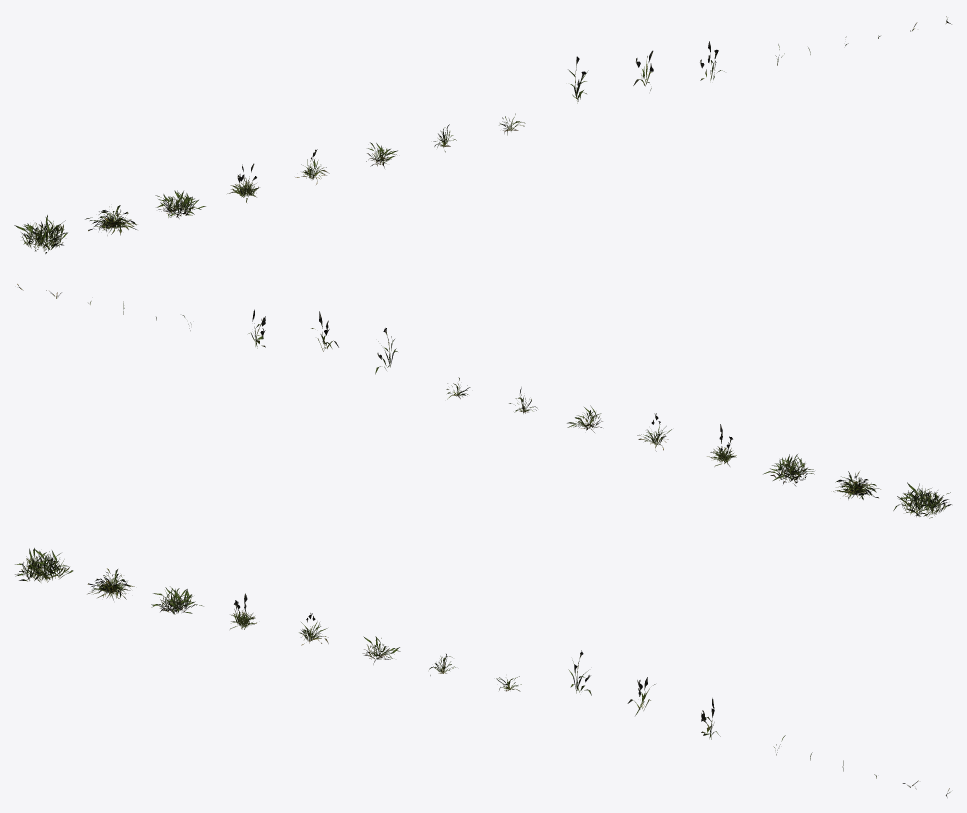
The model's file is grass_medium_01.glb.
The picture shows the model from 3 angles, top to bottom: view 1: azimuth 30°, elevation 25°; view 2: azimuth 150°, elevation 25°; view 3: azimuth 330°, elevation 25°; orthographic projection.
Parts seen in each view (by area): view 1: grass_medium_01_large_a_LOD0, grass_medium_01_large_c_LOD0, grass_medium_01_large_b_LOD0; view 2: grass_medium_01_large_a_LOD0, grass_medium_01_large_c_LOD0, grass_medium_01_large_b_LOD0; view 3: grass_medium_01_large_a_LOD0, grass_medium_01_large_c_LOD0, grass_medium_01_large_b_LOD0.
Boxes of the visible parts, x1=… form: grass_medium_01_large_a_LOD0: x1=14, y1=215, x2=67, y2=253; grass_medium_01_large_c_LOD0: x1=155, y1=190, x2=205, y2=218; grass_medium_01_large_b_LOD0: x1=85, y1=205, x2=137, y2=235; grass_medium_01_large_a_LOD0: x1=893, y1=482, x2=951, y2=518; grass_medium_01_large_c_LOD0: x1=763, y1=454, x2=814, y2=486; grass_medium_01_large_b_LOD0: x1=833, y1=471, x2=880, y2=499; grass_medium_01_large_a_LOD0: x1=15, y1=548, x2=73, y2=582; grass_medium_01_large_c_LOD0: x1=151, y1=586, x2=203, y2=614; grass_medium_01_large_b_LOD0: x1=87, y1=568, x2=134, y2=600.
Size of the model in its own units: 5.6 by 0.3382 by 0.3177.
Materials: 1 (1 with a texture image).
